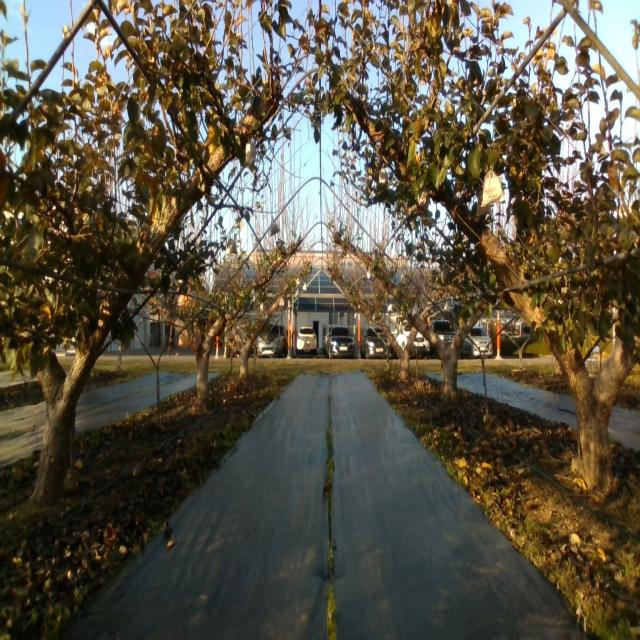pearbags: (480, 168, 505, 206), (246, 142, 256, 172), (270, 218, 280, 237)
